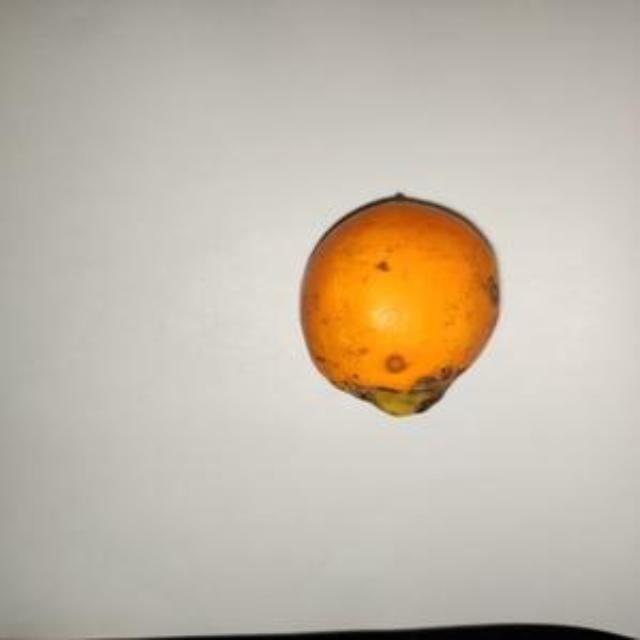good: (298, 195, 501, 420)
